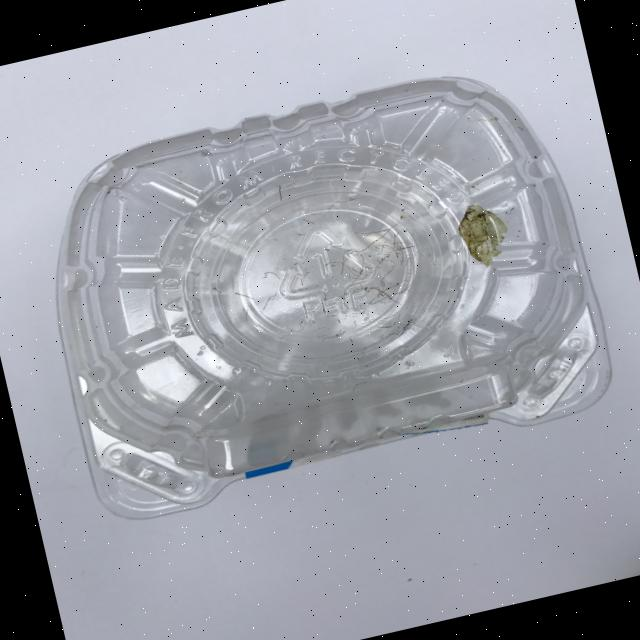plastic: (19, 48, 624, 529)
